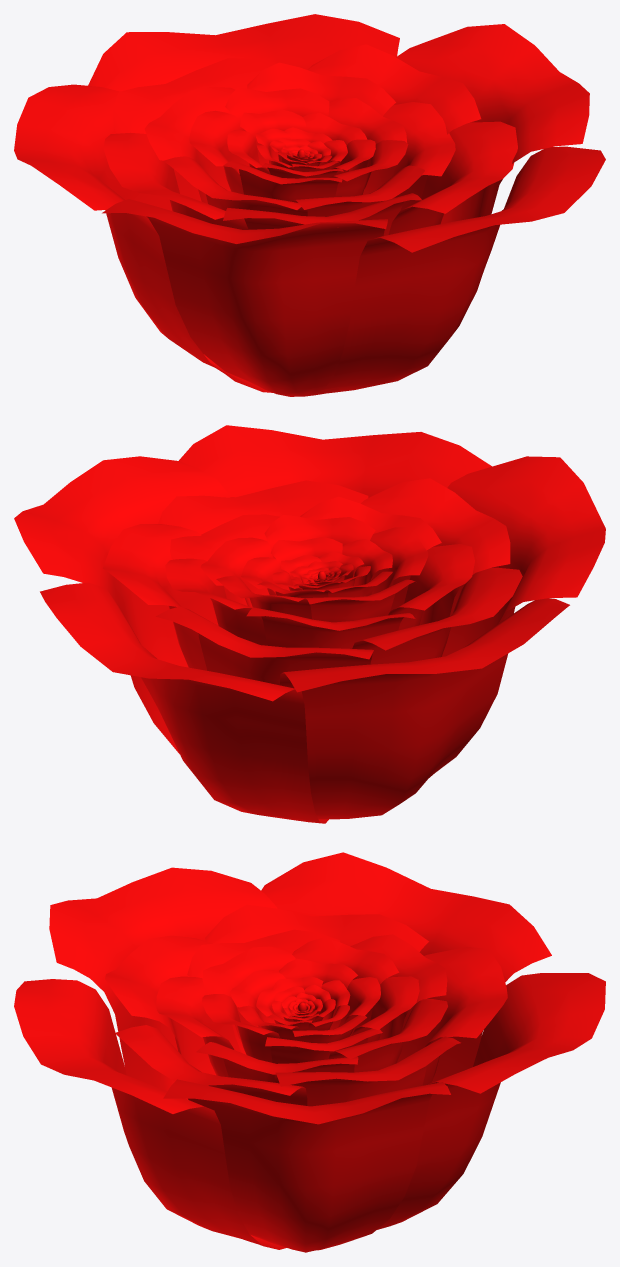
File: rosa.gltf
The picture shows the model from 3 angles, top to bottom: view 1: azimuth 30°, elevation 25°; view 2: azimuth 150°, elevation 25°; view 3: azimuth 270°, elevation 25°; orthographic projection. The views are drawn at different scales.
Parts seen in each view (by area): view 1: pCylinder3; view 2: pCylinder3; view 3: pCylinder3.
Boxes of the visible parts, x1=… form: pCylinder3: x1=14, y1=14, x2=605, y2=396; pCylinder3: x1=14, y1=425, x2=605, y2=823; pCylinder3: x1=14, y1=852, x2=605, y2=1252.
Size of the model in its own units: 2.52 by 1.31 by 2.53.
